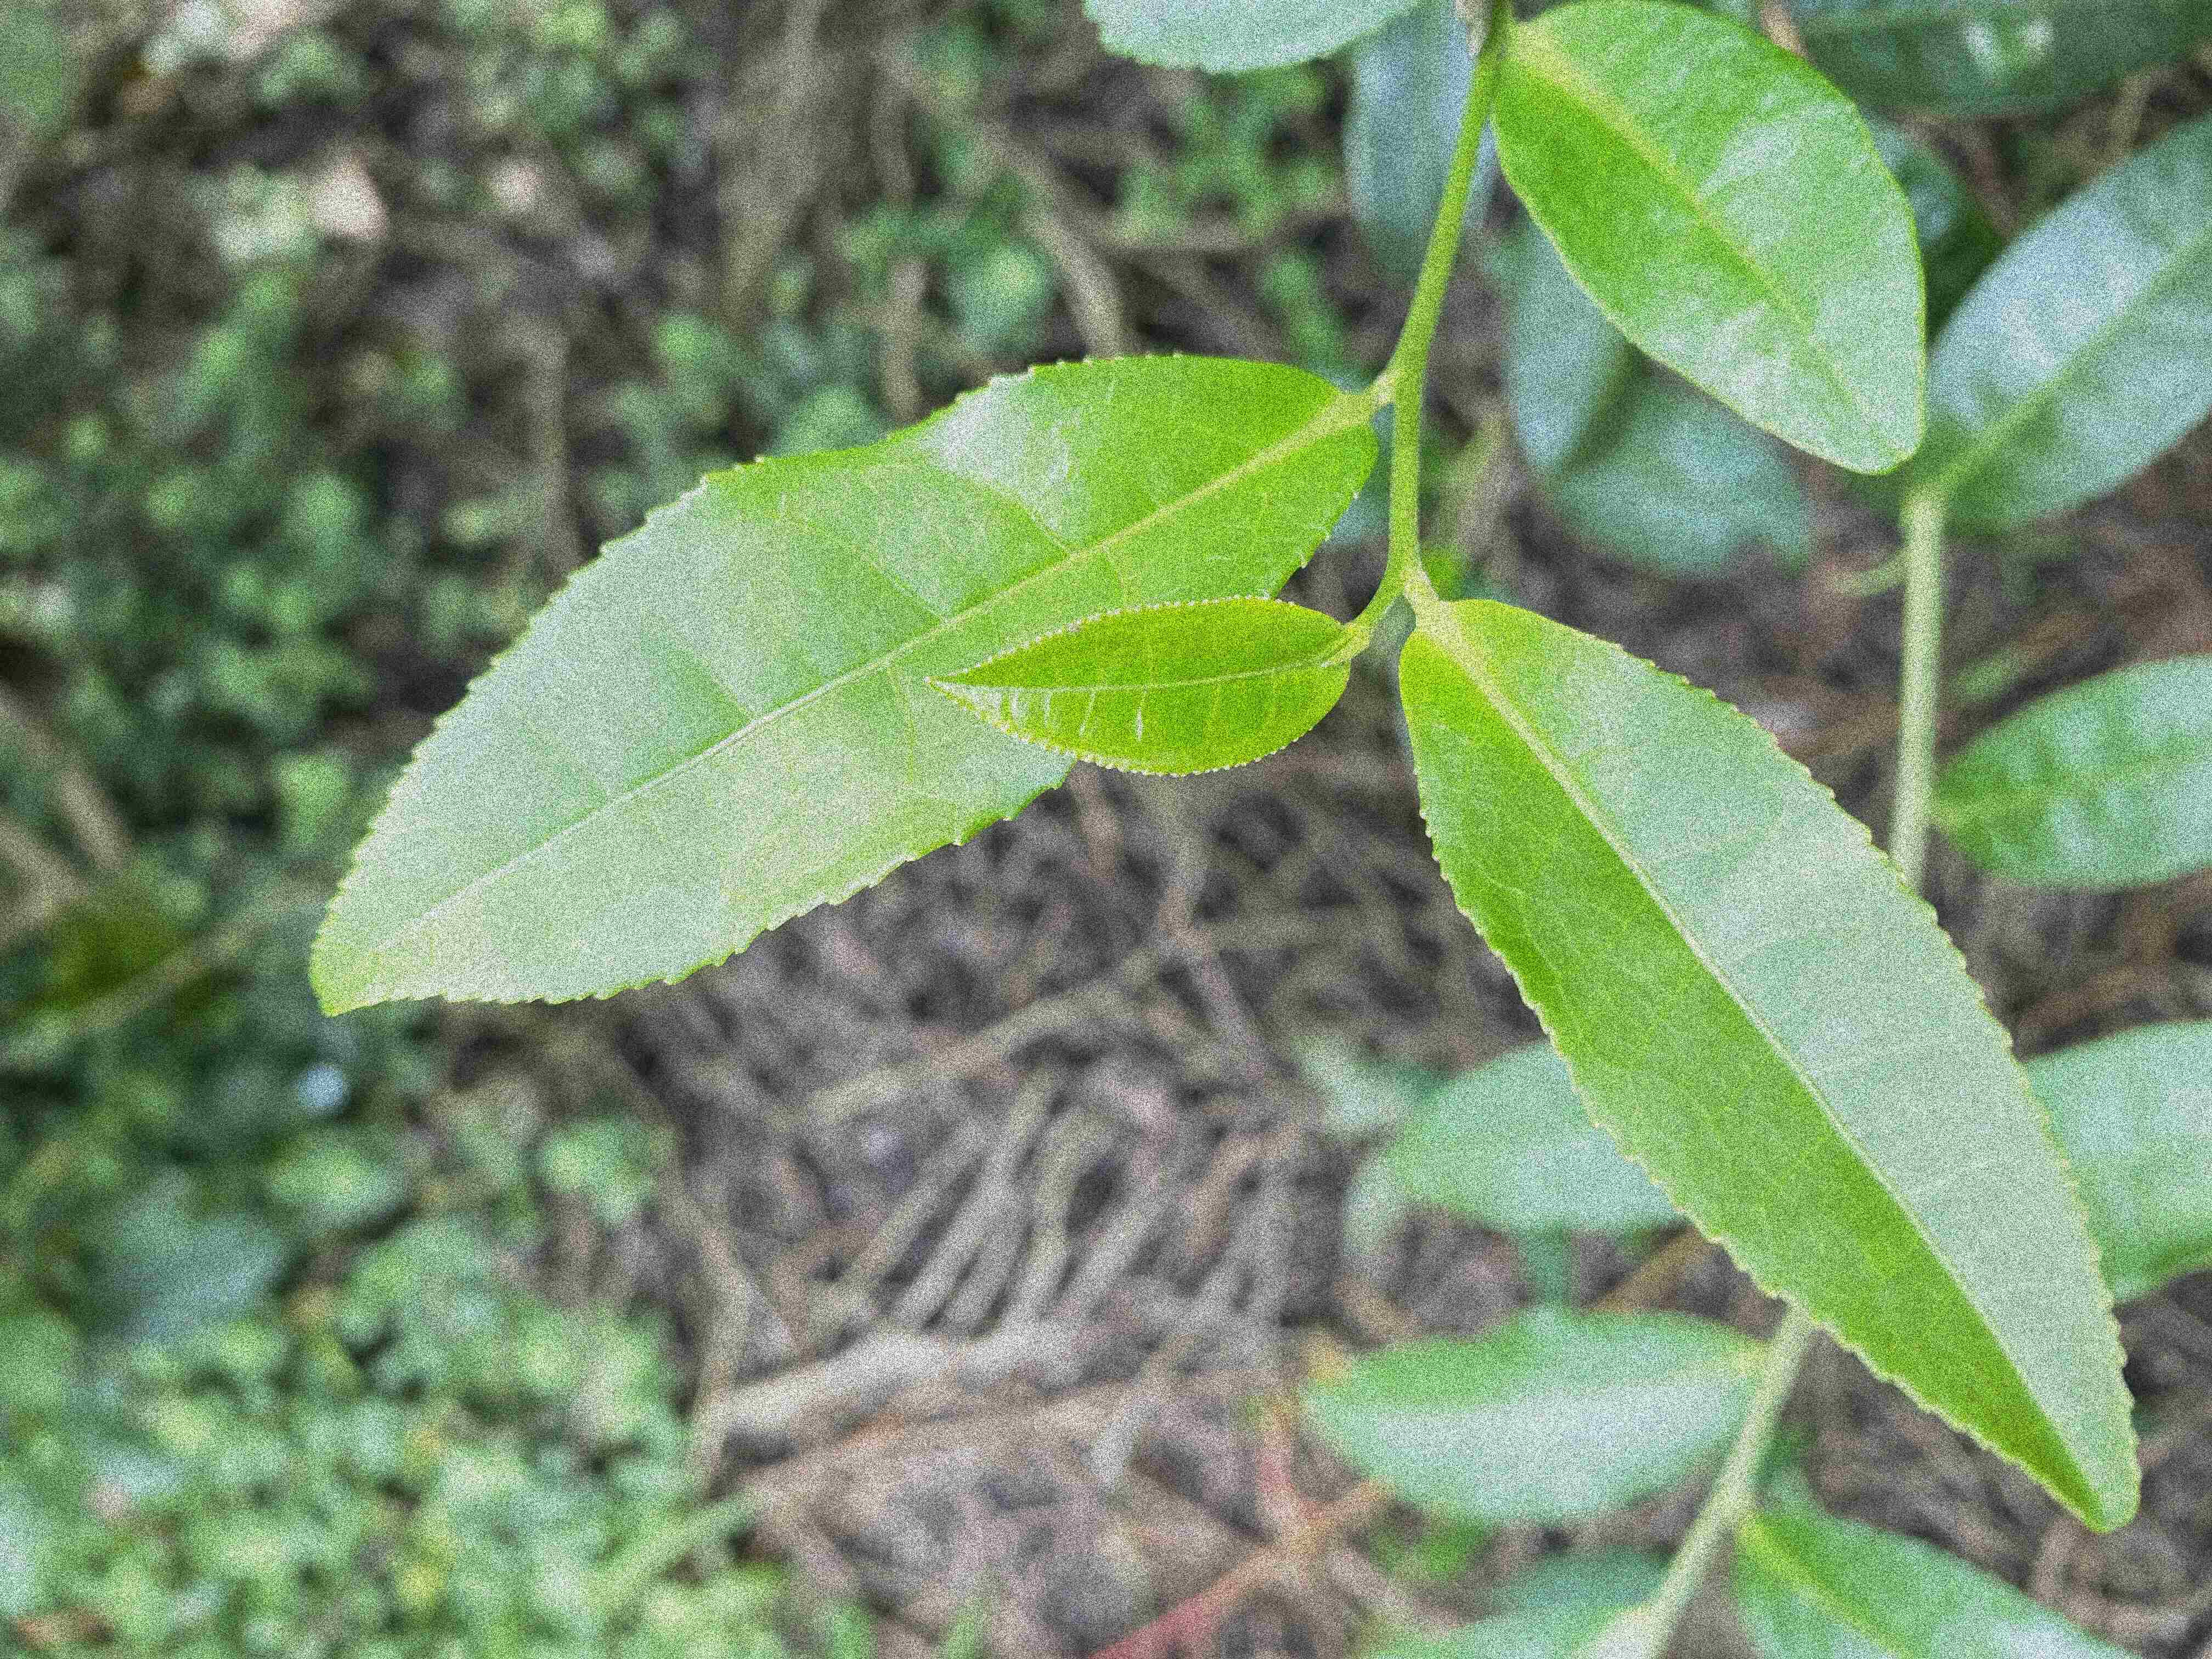healthy: (307, 350, 1379, 1021), (1397, 592, 2141, 1535), (1489, 3, 1930, 479), (921, 594, 1355, 782)
